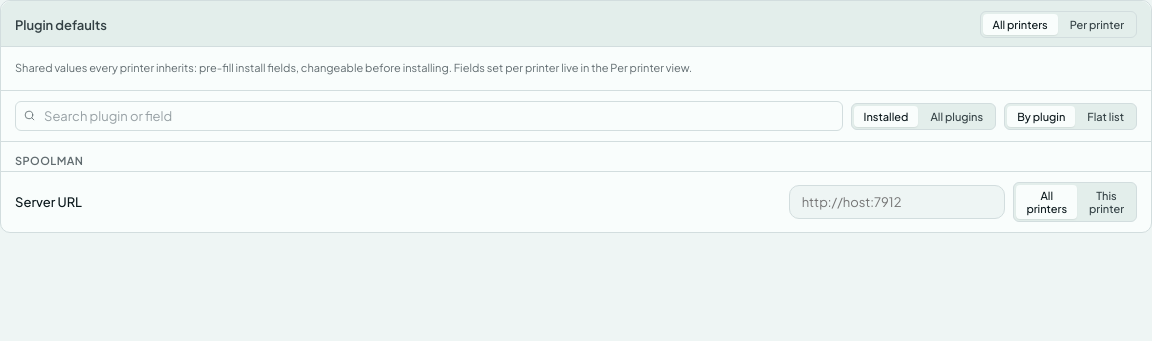
Test: ScopedPluginDefaultsPane view division and installed filter › shows the whole catalog on the All plugins position
Expected: the text "Server URL" is shown, [15,194,82,210]
Expected: the text "Web UI port" is not shown
Click the button "All plugins" at [957, 116], box [920,106,993,126]
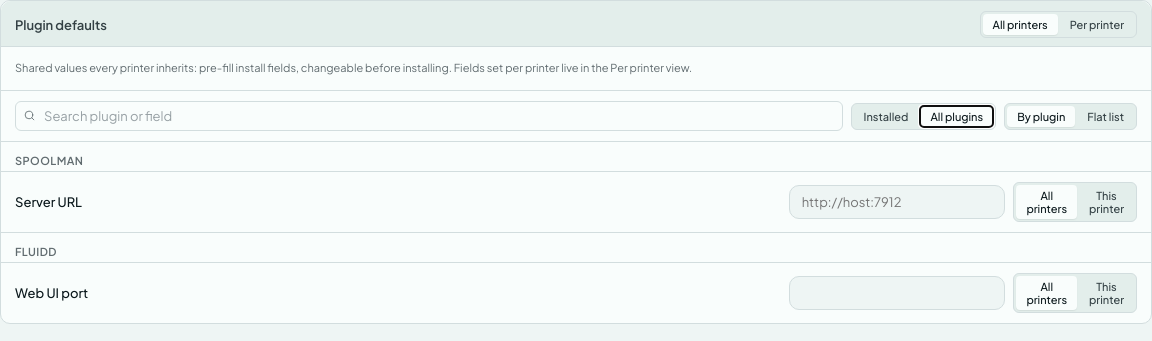
Expected: the text "Web UI port" is shown, [15,285,88,301]
